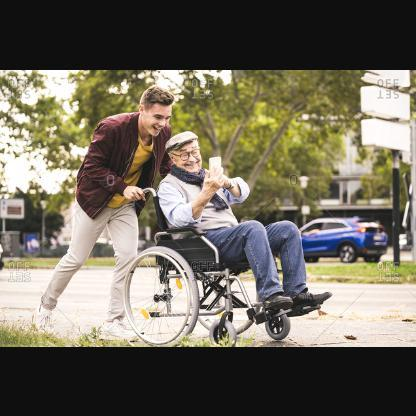push_wheelchair: (36, 85, 191, 342)
wheelchair: (123, 131, 332, 347)
